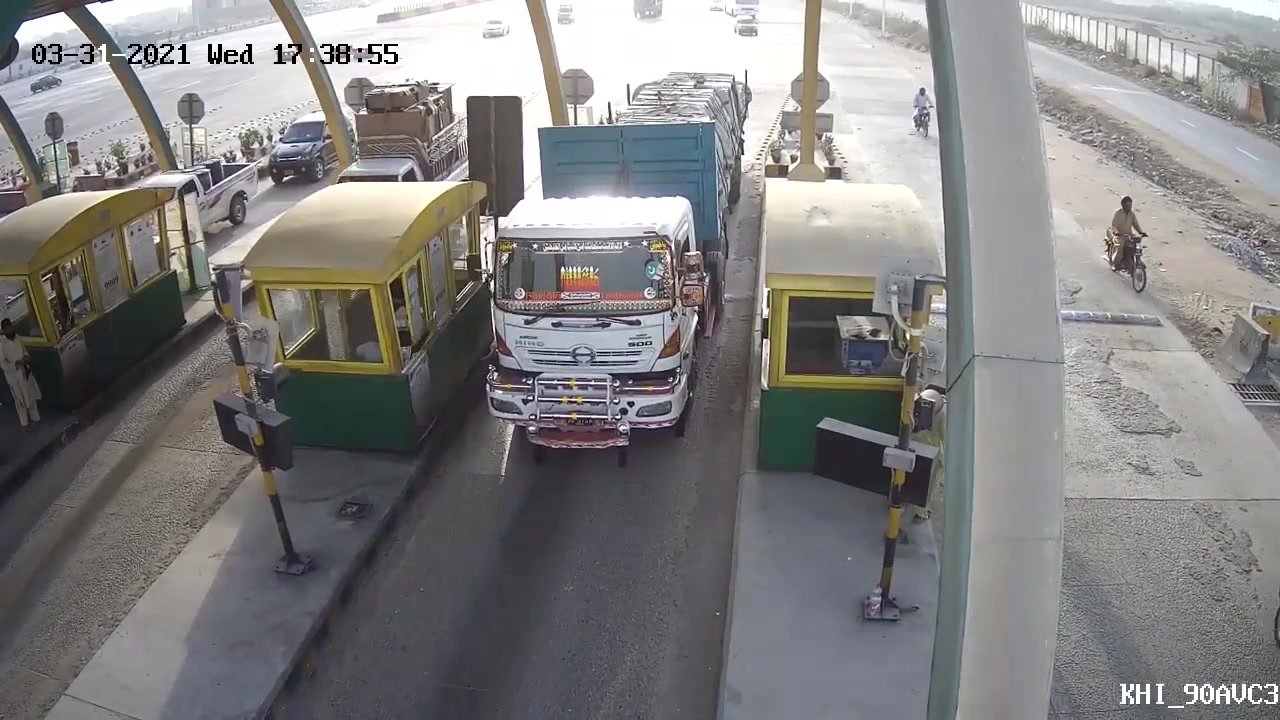F6: (475, 72, 753, 468)
